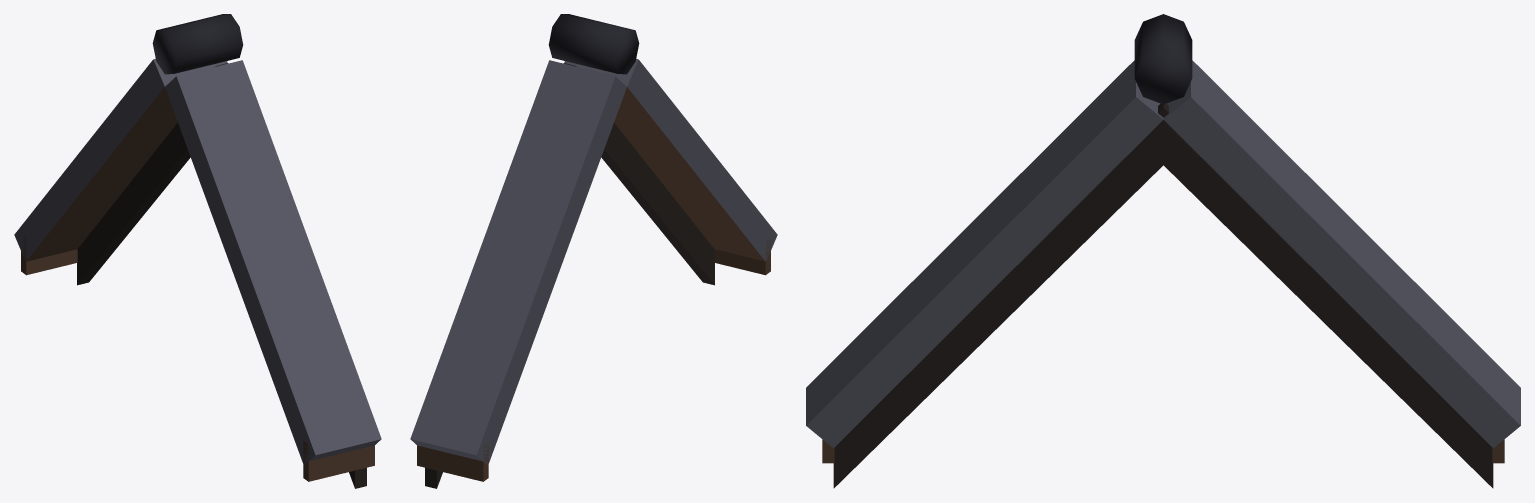
Rendered from kit_stone_slate_w1_end.glb.
3 renders of one model, left to right at view 1: azimuth 30°, elevation 25°; view 2: azimuth 150°, elevation 25°; view 3: azimuth 270°, elevation 25°, orthographic. The views are drawn at different scales.
Visible parts, largest first — view 1: kit_stone_slate_w1_end; view 2: kit_stone_slate_w1_end; view 3: kit_stone_slate_w1_end.
Boxes of the visible parts, x1,y1,x2,y2 form: kit_stone_slate_w1_end: (14,14,381,488); kit_stone_slate_w1_end: (410,14,777,488); kit_stone_slate_w1_end: (806,14,1520,488).
Size of the model in its own units: 0.22 by 1.17 by 1.73.
